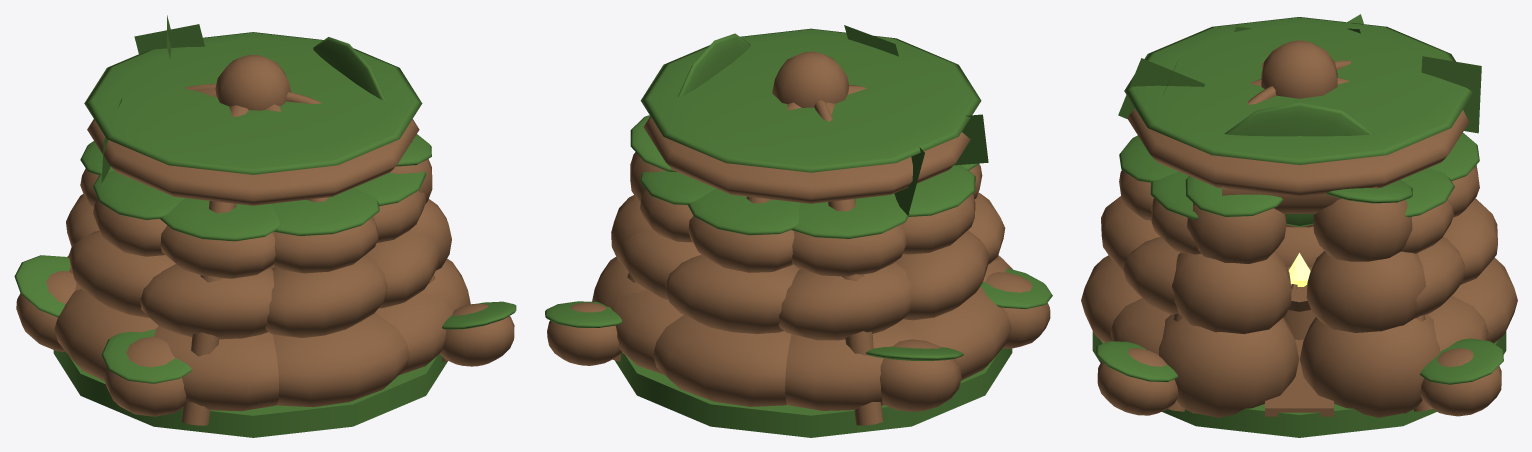
Rendered from shrine-root-vault.glb.
The picture shows the model from 3 angles, left to right: view 1: azimuth 30°, elevation 25°; view 2: azimuth 150°, elevation 25°; view 3: azimuth 270°, elevation 25°; orthographic projection. The views are drawn at different scales.
Parts seen in each view (by area): view 1: Mesh_DomeCapMoss, Mesh_DomeCap, Mesh_WallBot_1, Mesh_BaseDirt, Mesh_WallMid_2, Mesh_WallMid_1, Mesh_WallBot_2, Mesh_WallMid_3, Mesh_WallBot_3, Mesh_WallTop_2, Mesh_WallTop_1, Mesh_GroundStone_3 (+23 smaller); view 2: Mesh_DomeCapMoss, Mesh_DomeCap, Mesh_WallBot_5, Mesh_BaseDirt, Mesh_WallMid_4, Mesh_WallMid_5, Mesh_WallBot_4, Mesh_WallMid_3, Mesh_WallBot_3, Mesh_WallTop_4, Mesh_GroundStone_2, Mesh_WallTop_5 (+24 smaller); view 3: Mesh_DomeCapMoss, Mesh_DomeCap, Mesh_EntPillarL_Bot, Mesh_EntPillarR_Bot, Mesh_EntPillarR_Mid, Mesh_EntPillarL_Mid, Mesh_EntPillarL_Top, Mesh_BaseDirt, Mesh_EntPillarR_Top, Mesh_ArchLintelMoss, Mesh_RootKnot, Mesh_GroundStone_1 (+28 smaller).
Boxes of the visible parts, x1,y1,x2,y2 form: Mesh_DomeCapMoss: (84, 32, 422, 174); Mesh_DomeCap: (87, 119, 419, 205); Mesh_WallBot_1: (272, 313, 409, 407); Mesh_BaseDirt: (53, 350, 447, 437); Mesh_WallMid_2: (139, 264, 274, 339); Mesh_WallMid_1: (265, 255, 387, 337); Mesh_WallBot_2: (154, 326, 278, 411); Mesh_WallMid_3: (68, 230, 175, 317); Mesh_WallBot_3: (54, 288, 158, 381); Mesh_WallTop_2: (160, 225, 275, 278); Mesh_WallTop_1: (272, 217, 378, 273); Mesh_GroundStone_3: (104, 336, 186, 416); Mesh_DomeCapMoss: (640, 28, 981, 172); Mesh_DomeCap: (643, 116, 970, 203); Mesh_WallBot_5: (653, 315, 791, 406); Mesh_BaseDirt: (615, 348, 1012, 437); Mesh_WallMid_4: (778, 262, 912, 340); Mesh_WallMid_5: (665, 254, 799, 333); Mesh_WallBot_4: (785, 321, 920, 410); Mesh_WallMid_3: (895, 230, 988, 320); Mesh_WallBot_3: (901, 287, 1011, 380); Mesh_WallTop_4: (791, 223, 907, 276); Mesh_GroundStone_2: (880, 339, 961, 411); Mesh_WallTop_5: (688, 216, 794, 272); Mesh_DomeCapMoss: (1124, 17, 1473, 164); Mesh_DomeCap: (1127, 108, 1469, 196); Mesh_EntPillarL_Bot: (1300, 314, 1439, 417); Mesh_EntPillarR_Bot: (1159, 314, 1298, 417); Mesh_EntPillarR_Mid: (1172, 252, 1291, 334); Mesh_EntPillarL_Mid: (1306, 251, 1426, 332); Mesh_EntPillarL_Top: (1313, 198, 1412, 261); Mesh_BaseDirt: (1092, 331, 1506, 437); Mesh_EntPillarR_Top: (1187, 203, 1286, 263); Mesh_ArchLintelMoss: (1224, 102, 1374, 226); Mesh_RootKnot: (1261, 40, 1337, 98); Mesh_GroundStone_1: (1097, 348, 1178, 415).
Bounding box in the file's own units: 3.85 × 3.01 × 3.8.
